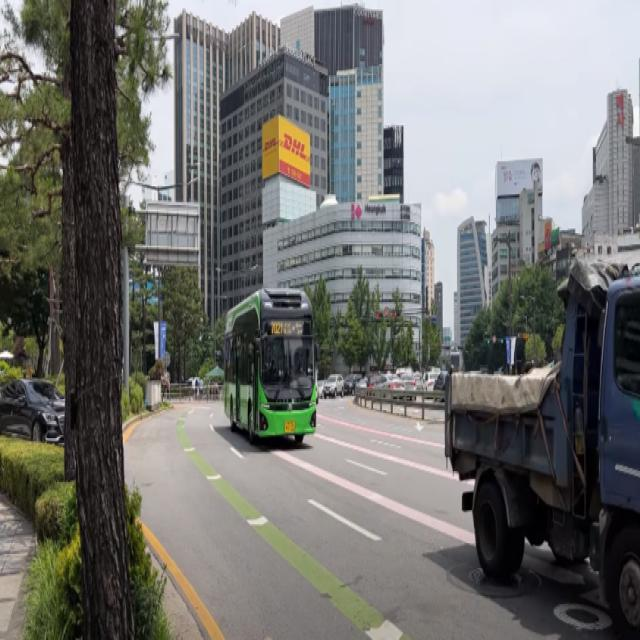bus-number: (271, 321, 283, 336)
